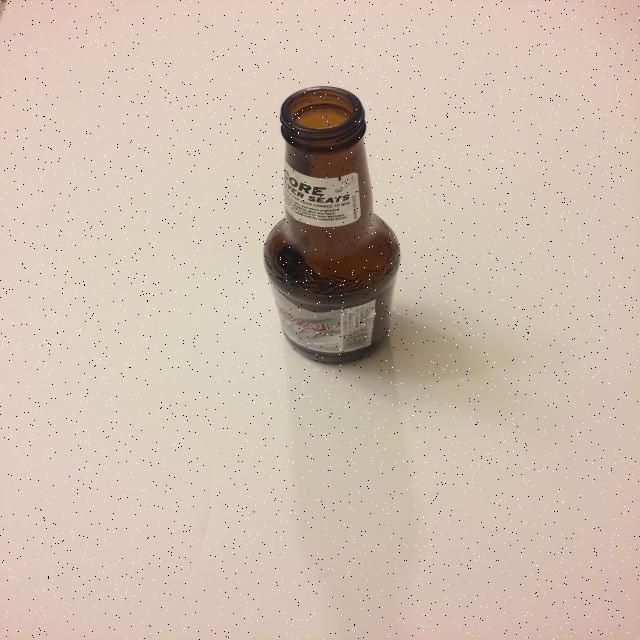glass: (262, 85, 402, 364)
